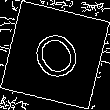O_SE: (23, 22, 87, 88)
